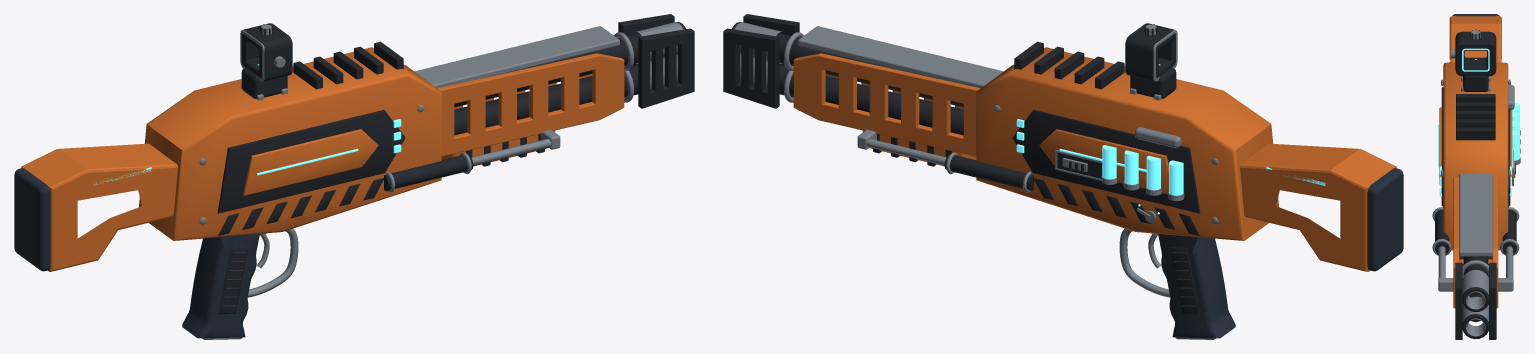
Rendered from bastion-breaker.glb.
The picture shows the model from 3 angles, left to right: view 1: azimuth 30°, elevation 25°; view 2: azimuth 150°, elevation 25°; view 3: azimuth 270°, elevation 25°; orthographic projection. The views are drawn at different scales.
Visible parts, largest first — view 1: 03_Afterglow_Shotgun__body_Sculpt_coat, 03_Afterglow_Shotgun__body_Sculpt_frame, 03_Afterglow_Shotgun__stock_Sculpt_coat, 03_Afterglow_Shotgun__body_Sculpt_metal, 03_Afterglow_Shotgun__body_Sculpt_grip, 03_Afterglow_Shotgun__stock_Sculpt_grip, 03_Afterglow_Shotgun__optic_Sculpt_frame, 03_Afterglow_Shotgun__fore_end_Sculpt_metal, 03_Afterglow_Shotgun__optic_Sculpt_metal, 03_Afterglow_Shotgun__fore_end_Sculpt_coat, 03_Afterglow_Shotgun__body_Sculpt_glow; view 2: 03_Afterglow_Shotgun__body_Sculpt_coat, 03_Afterglow_Shotgun__body_Sculpt_frame, 03_Afterglow_Shotgun__stock_Sculpt_coat, 03_Afterglow_Shotgun__body_Sculpt_metal, 03_Afterglow_Shotgun__body_Sculpt_grip, 03_Afterglow_Shotgun__stock_Sculpt_grip, 03_Afterglow_Shotgun__optic_Sculpt_frame, 03_Afterglow_Shotgun__body_Sculpt_glow, 03_Afterglow_Shotgun__fore_end_Sculpt_metal, 03_Afterglow_Shotgun__bolt_Sculpt_metal, 03_Afterglow_Shotgun__fore_end_Sculpt_coat; view 3: 03_Afterglow_Shotgun__body_Sculpt_coat, 03_Afterglow_Shotgun__body_Sculpt_frame, 03_Afterglow_Shotgun__body_Sculpt_metal, 03_Afterglow_Shotgun__optic_Sculpt_frame, 03_Afterglow_Shotgun__stock_Sculpt_coat, 03_Afterglow_Shotgun__fore_end_Sculpt_metal, 03_Afterglow_Shotgun__body_Sculpt_glow, 03_Afterglow_Shotgun__optic_Sculpt_metal, 03_Afterglow_Shotgun__bolt_Sculpt_metal, 03_Afterglow_Shotgun__optic_Sculpt_glow, 03_Afterglow_Shotgun__stock_Sculpt_grip.
Part boxes in pixels (box(x1,y1,x2,y2)): 03_Afterglow_Shotgun__body_Sculpt_coat: box(139, 47, 624, 240); 03_Afterglow_Shotgun__body_Sculpt_frame: box(217, 14, 694, 314); 03_Afterglow_Shotgun__stock_Sculpt_coat: box(21, 143, 177, 271); 03_Afterglow_Shotgun__body_Sculpt_metal: box(199, 22, 683, 339); 03_Afterglow_Shotgun__body_Sculpt_grip: box(182, 234, 259, 338); 03_Afterglow_Shotgun__stock_Sculpt_grip: box(14, 168, 50, 271); 03_Afterglow_Shotgun__optic_Sculpt_frame: box(241, 23, 292, 98); 03_Afterglow_Shotgun__fore_end_Sculpt_metal: box(471, 129, 560, 165); 03_Afterglow_Shotgun__optic_Sculpt_metal: box(240, 24, 287, 100); 03_Afterglow_Shotgun__fore_end_Sculpt_coat: box(441, 130, 555, 166); 03_Afterglow_Shotgun__body_Sculpt_glow: box(257, 119, 401, 175); 03_Afterglow_Shotgun__body_Sculpt_coat: box(793, 47, 1278, 240); 03_Afterglow_Shotgun__body_Sculpt_frame: box(723, 14, 1200, 314); 03_Afterglow_Shotgun__stock_Sculpt_coat: box(1240, 143, 1396, 271); 03_Afterglow_Shotgun__body_Sculpt_metal: box(734, 22, 1218, 339); 03_Afterglow_Shotgun__body_Sculpt_grip: box(1158, 234, 1235, 338); 03_Afterglow_Shotgun__stock_Sculpt_grip: box(1367, 168, 1403, 271); 03_Afterglow_Shotgun__optic_Sculpt_frame: box(1125, 23, 1176, 98); 03_Afterglow_Shotgun__body_Sculpt_glow: box(1016, 119, 1183, 214); 03_Afterglow_Shotgun__fore_end_Sculpt_metal: box(857, 129, 946, 165); 03_Afterglow_Shotgun__bolt_Sculpt_metal: box(1062, 127, 1181, 172); 03_Afterglow_Shotgun__fore_end_Sculpt_coat: box(862, 130, 976, 166); 03_Afterglow_Shotgun__body_Sculpt_coat: box(1439, 62, 1512, 308); 03_Afterglow_Shotgun__body_Sculpt_frame: box(1435, 87, 1516, 339); 03_Afterglow_Shotgun__body_Sculpt_metal: box(1432, 79, 1520, 336); 03_Afterglow_Shotgun__optic_Sculpt_frame: box(1455, 29, 1496, 91); 03_Afterglow_Shotgun__stock_Sculpt_coat: box(1449, 16, 1501, 62); 03_Afterglow_Shotgun__fore_end_Sculpt_metal: box(1438, 246, 1513, 291); 03_Afterglow_Shotgun__body_Sculpt_glow: box(1438, 102, 1519, 196); 03_Afterglow_Shotgun__optic_Sculpt_metal: box(1451, 30, 1494, 91); 03_Afterglow_Shotgun__bolt_Sculpt_metal: box(1508, 84, 1515, 177); 03_Afterglow_Shotgun__optic_Sculpt_glow: box(1462, 48, 1489, 71); 03_Afterglow_Shotgun__stock_Sculpt_grip: box(1452, 14, 1499, 16).
Bounding box in the file's own units: 3.25 × 1.41 × 0.444.
